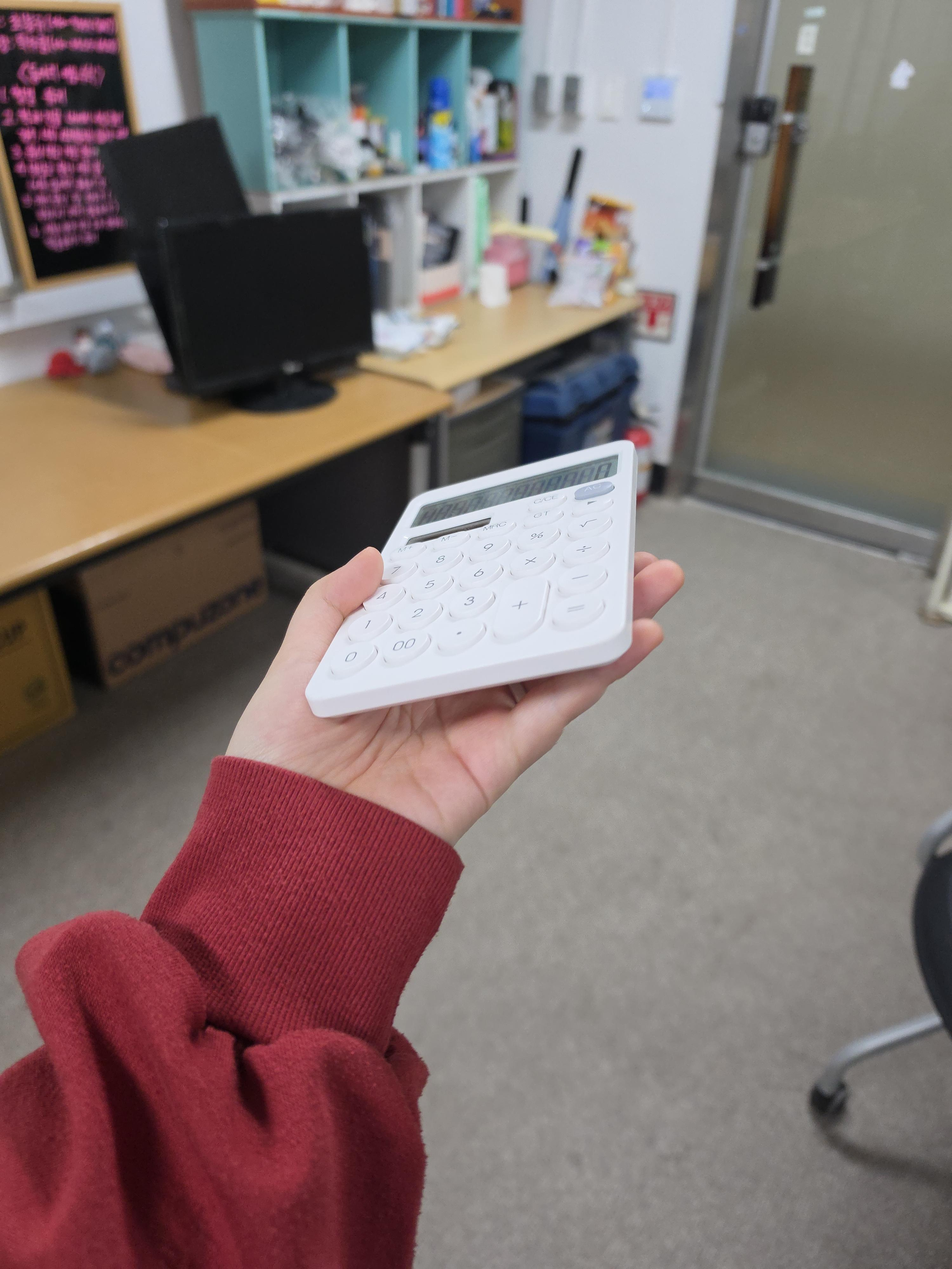calculator: (305, 440, 638, 718)
